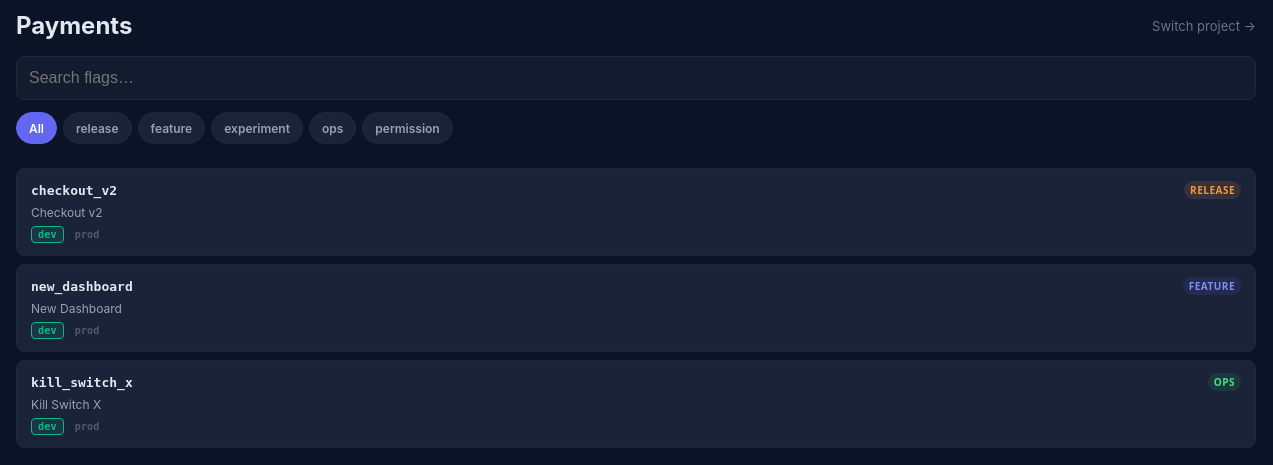
Test: FlagListPage › tapping a category chip filters the list to that category
This screenshot has width=1273, height=465.
Expected: the text "checkout_v2" is shown, [31,182,117,198]
Step 1. Click the button "release" → (97, 128), box [63,112,132,144]
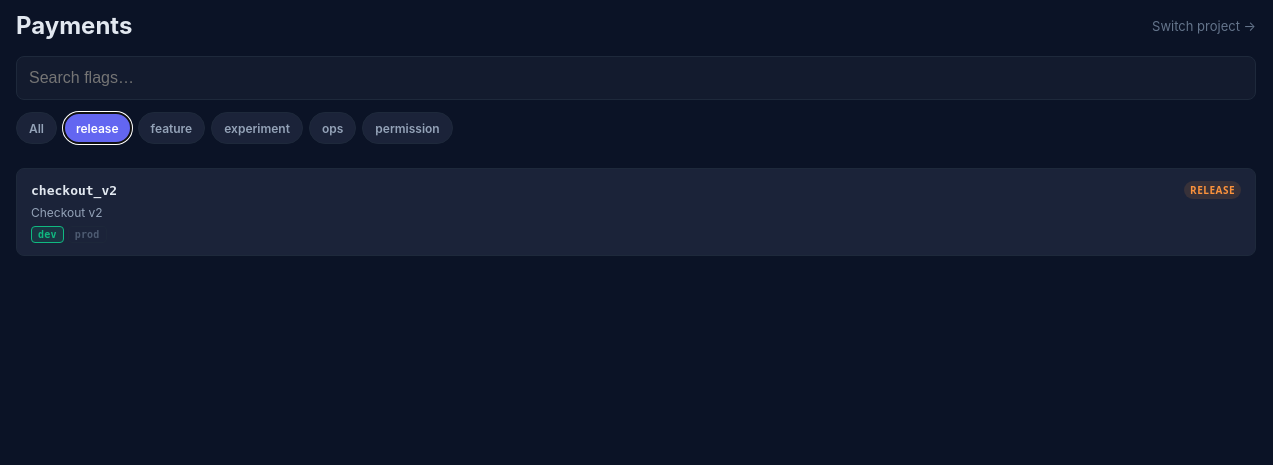
Expected: the text "checkout_v2" is shown, [31,182,117,198]
Expected: the link "new_dashboard" is gone
Expected: the link "kill_switch_x" is gone
